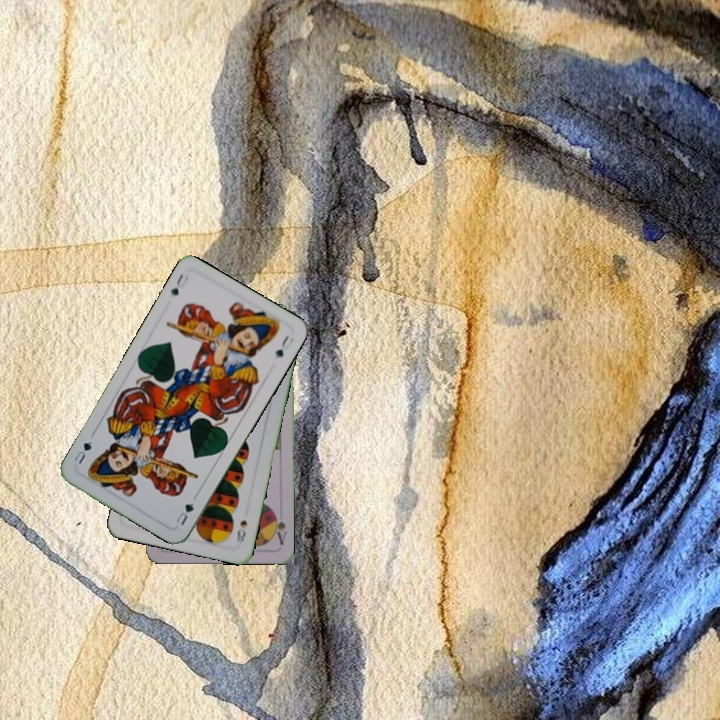GU: (172, 497, 197, 528), (166, 270, 191, 298)
S8: (232, 516, 250, 545)
SA: (270, 507, 290, 547)
